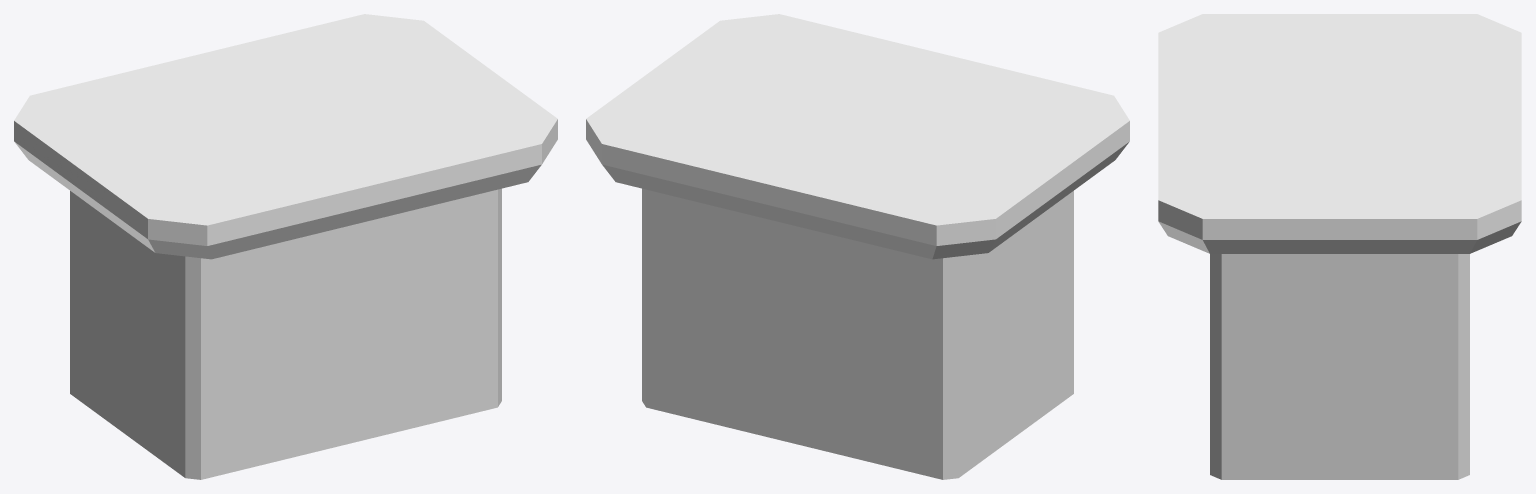
File: table_j.fbx
3 renders of one model, left to right at view 1: azimuth 30°, elevation 25°; view 2: azimuth 150°, elevation 25°; view 3: azimuth 270°, elevation 25°, orthographic. The views are drawn at different scales.
Visible parts, largest first — view 1: table_j; view 2: table_j; view 3: table_j.
Boxes of the visible parts, <box> form: table_j: <box>14,14,557,479</box>; table_j: <box>586,14,1129,479</box>; table_j: <box>1158,14,1521,479</box>.
Size of the model in its own units: 2.11 by 1.37 by 1.58.
